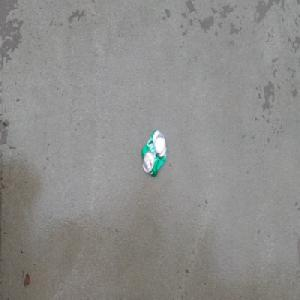SodaCan: (140, 128, 167, 179)
